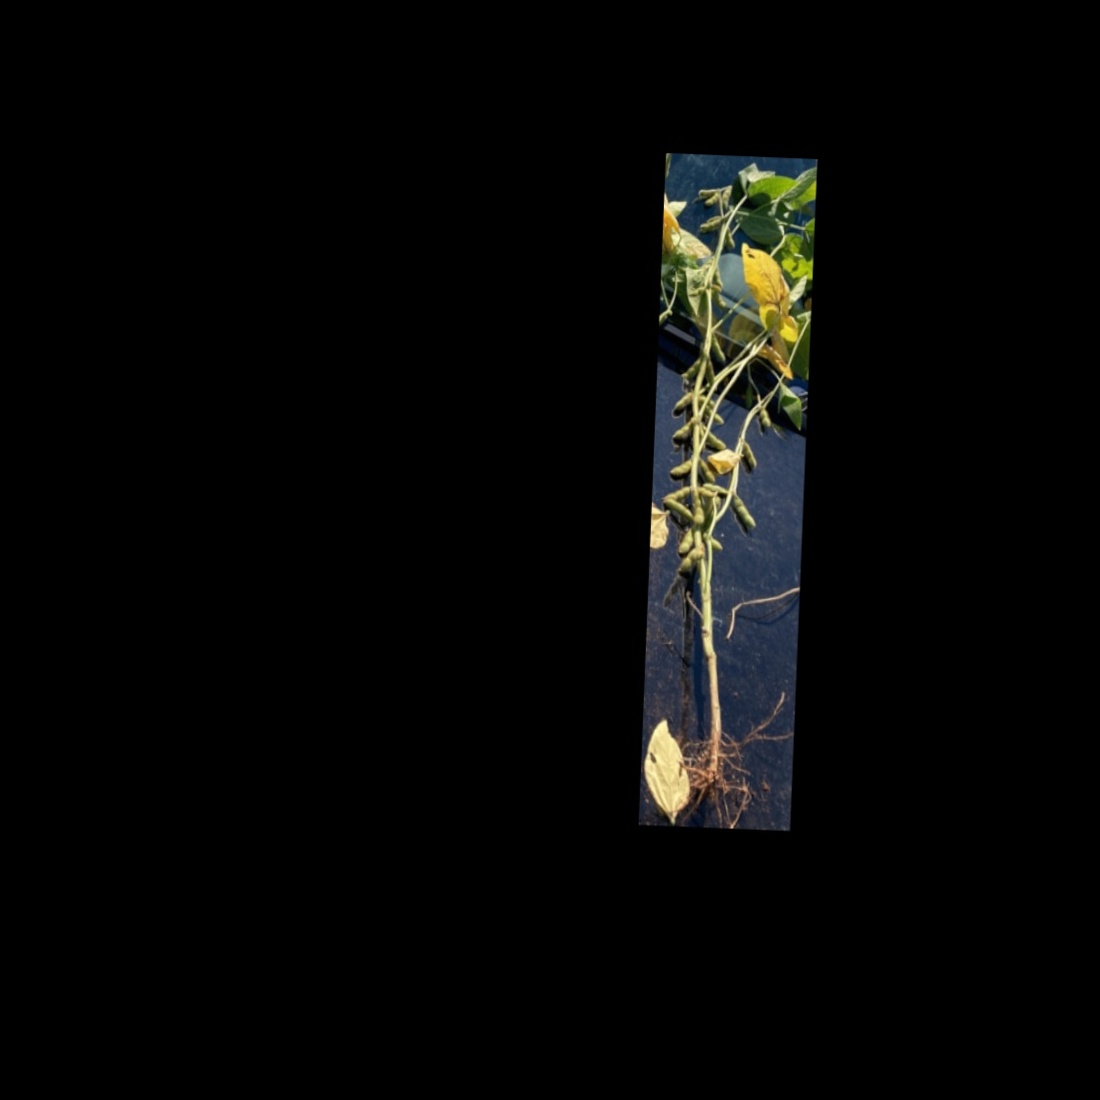pod: (728, 492, 760, 533), (660, 494, 697, 523), (660, 480, 693, 505), (667, 455, 694, 482), (737, 442, 759, 475), (697, 213, 726, 234), (677, 525, 694, 558), (723, 226, 738, 253), (713, 263, 728, 290), (757, 406, 772, 430), (720, 185, 733, 213), (702, 190, 721, 208)
soy: (641, 165, 812, 810)
